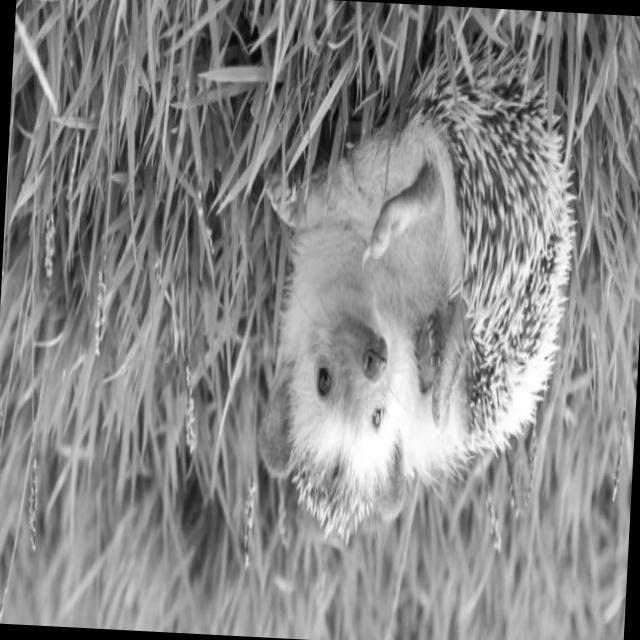Hedgehog: (244, 50, 582, 549)
